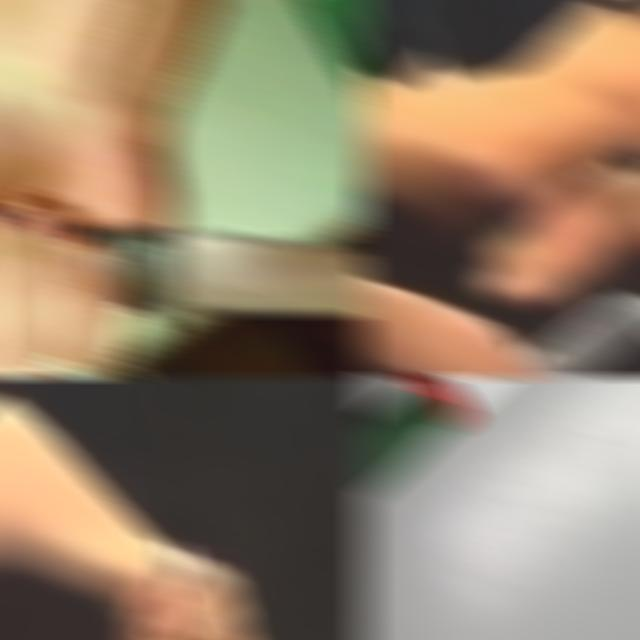Knife: (356, 376, 509, 498), (521, 294, 640, 378)
Knife_Handle: (0, 101, 372, 378), (428, 284, 640, 378), (126, 532, 268, 640)
